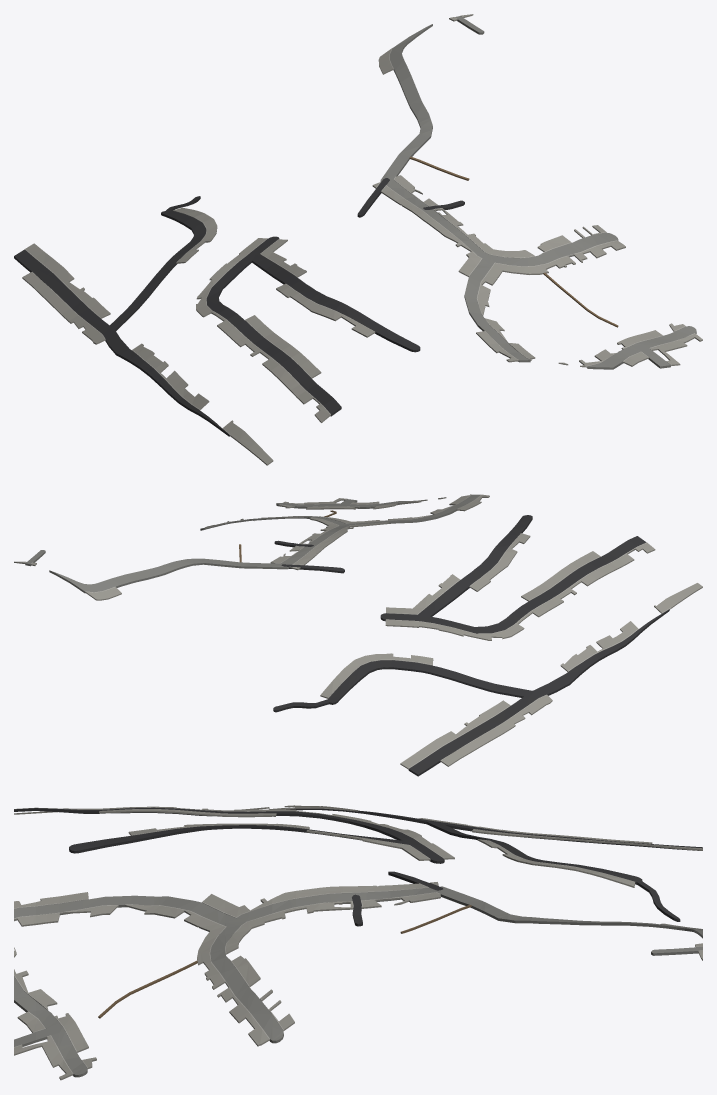
3 views of the same model, one above another, from view 1: azimuth 30°, elevation 25°; view 2: azimuth 150°, elevation 25°; view 3: azimuth 270°, elevation 25° (orthographic). The views are drawn at different scales.
Size of the model in its own units: 289 by 75.58 by 292.
